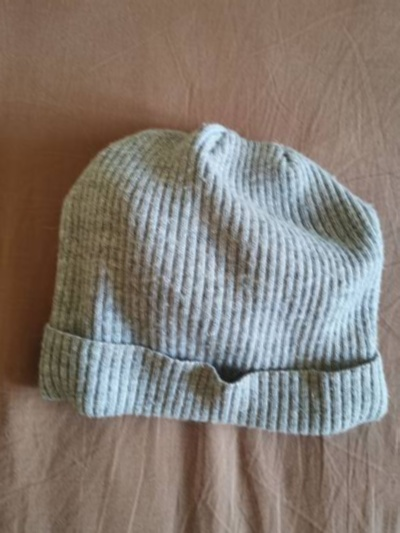Hat: (30, 112, 400, 450)
